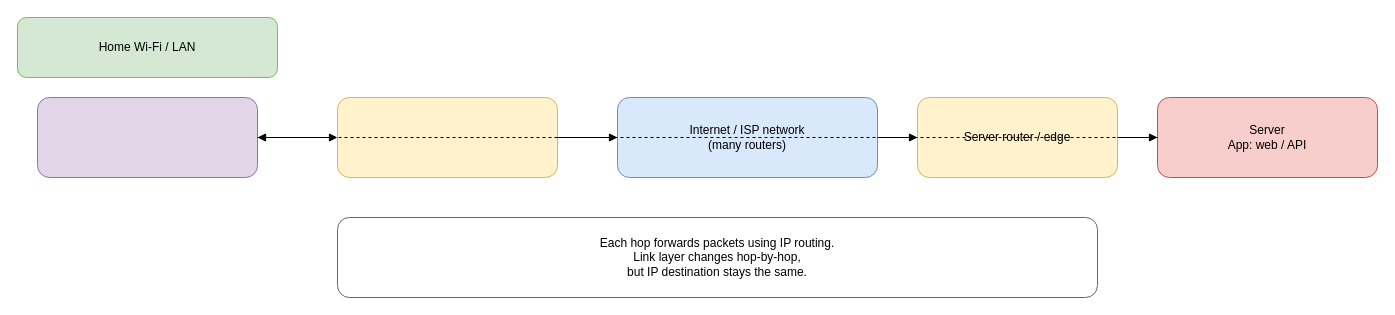
This 1395x315 diagram has some shape labels left out. Each missing label, with the centre of its shape:
Home router (default gateway): the point at 447,137
Laptop App: browser / client: the point at 147,137
